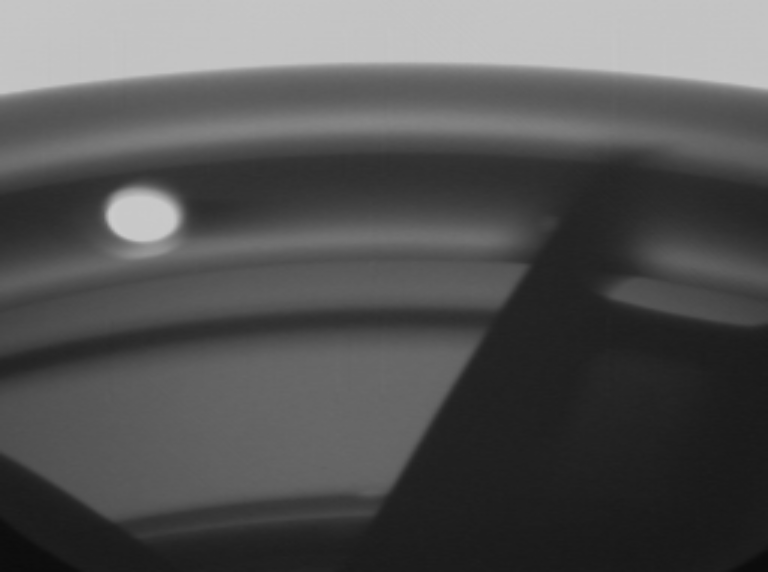defect: (522, 206, 585, 244)
